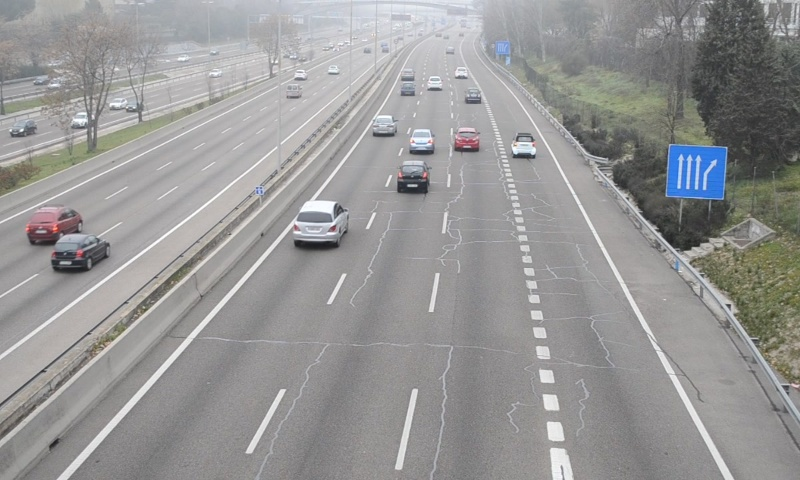car: (291, 200, 348, 244), (396, 160, 429, 190), (454, 126, 481, 153), (409, 128, 434, 154), (512, 132, 536, 159), (371, 114, 398, 137), (426, 74, 443, 91), (464, 88, 482, 104), (399, 82, 416, 97)
